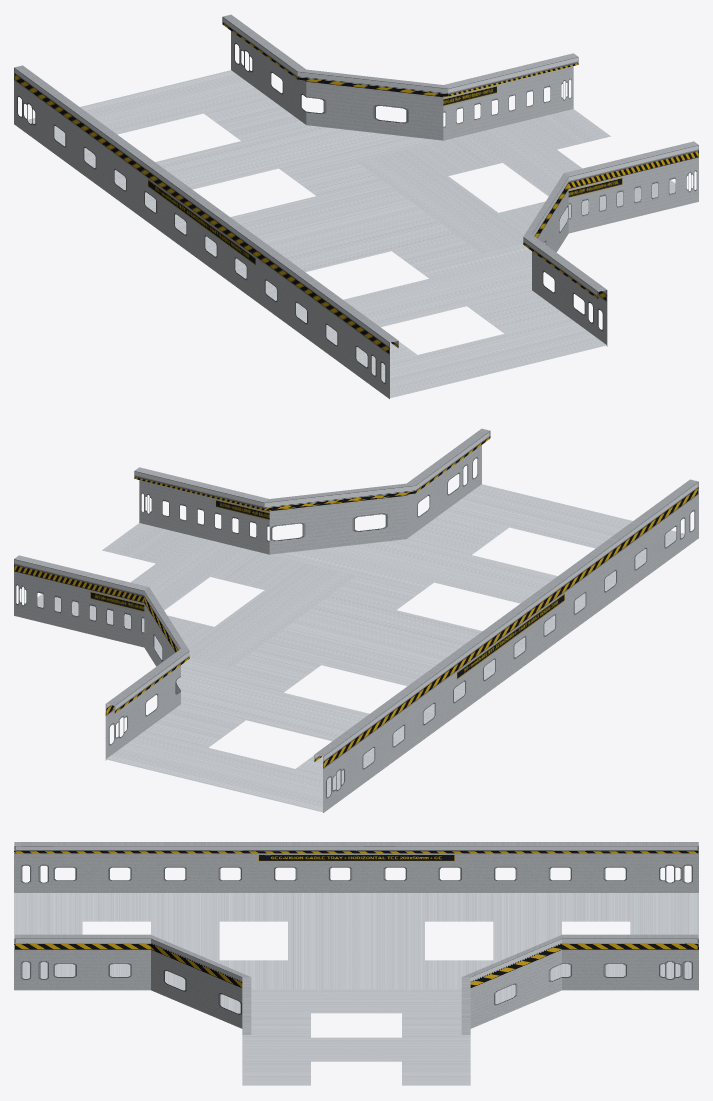
The model's file is SEC_Cable_Tray_Tee.fbx.
3 renders of one model, top to bottom at view 1: azimuth 30°, elevation 25°; view 2: azimuth 150°, elevation 25°; view 3: azimuth 270°, elevation 25°, orthographic. The views are drawn at different scales.
Parts seen in each view (by area): view 1: Main_Channel_B, Main_Channel_A, Branch_Channel; view 2: Main_Channel_A, Main_Channel_B, Branch_Channel; view 3: Main_Channel_B, Main_Channel_A, Branch_Channel.
Boxes of the visible parts, box(x1,y1,x2,y2) form: Main_Channel_B: box(14, 14, 448, 261); Main_Channel_A: box(202, 173, 607, 398); Branch_Channel: box(357, 53, 698, 253); Main_Channel_A: box(264, 428, 698, 675); Main_Channel_B: box(105, 587, 510, 812); Branch_Channel: box(14, 467, 355, 667); Main_Channel_B: box(356, 842, 698, 1028); Main_Channel_A: box(14, 842, 356, 1028); Branch_Channel: box(242, 977, 470, 1085).
Bounding box in the file's own units: 40 × 5 × 60.
Materials: 1 (1 with a texture image).
